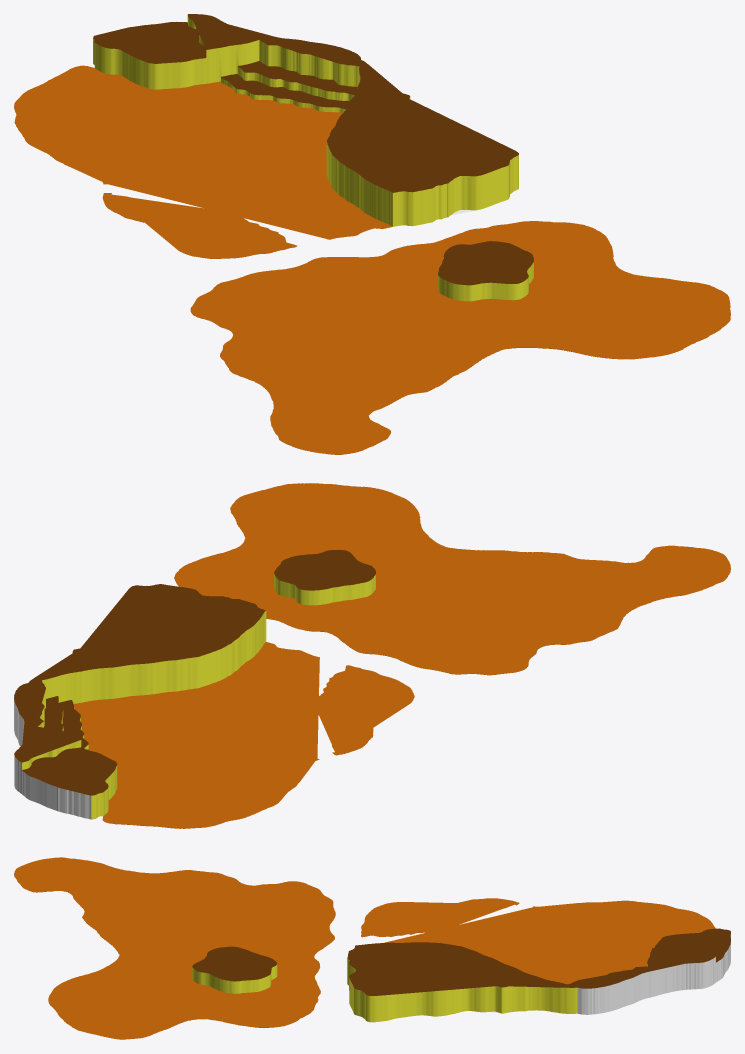
The model's file is incilanin_leveli10.fbx.
The picture shows the model from 3 angles, top to bottom: view 1: azimuth 30°, elevation 25°; view 2: azimuth 150°, elevation 25°; view 3: azimuth 270°, elevation 25°; orthographic projection. The views are drawn at different scales.
Visible parts, largest first — view 1: Model; view 2: Model; view 3: Model.
Part boxes in pixels (bbox=[...]): Model: bbox=[14, 14, 730, 454]; Model: bbox=[14, 483, 730, 828]; Model: bbox=[14, 857, 730, 1039].
Size of the model in its own units: 3.14 by 0.21 by 5.22.
